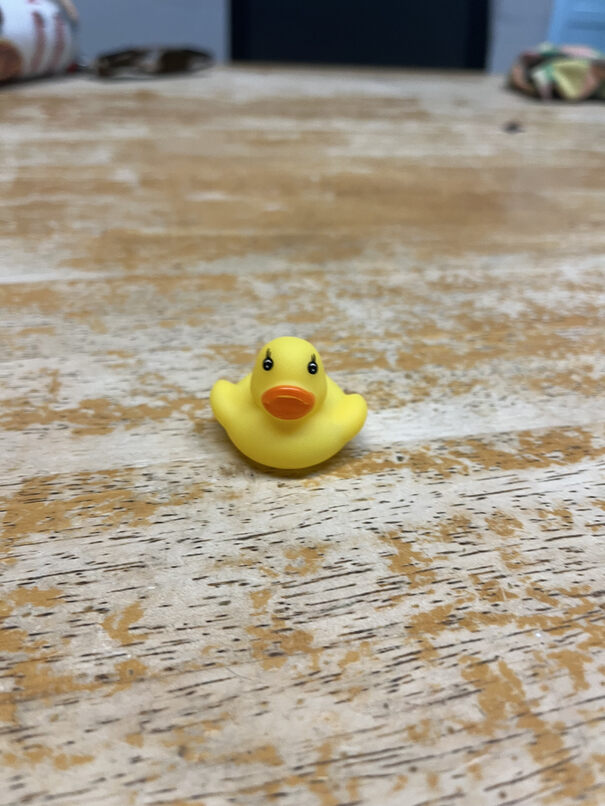duck_regular: (198, 330, 371, 472)
